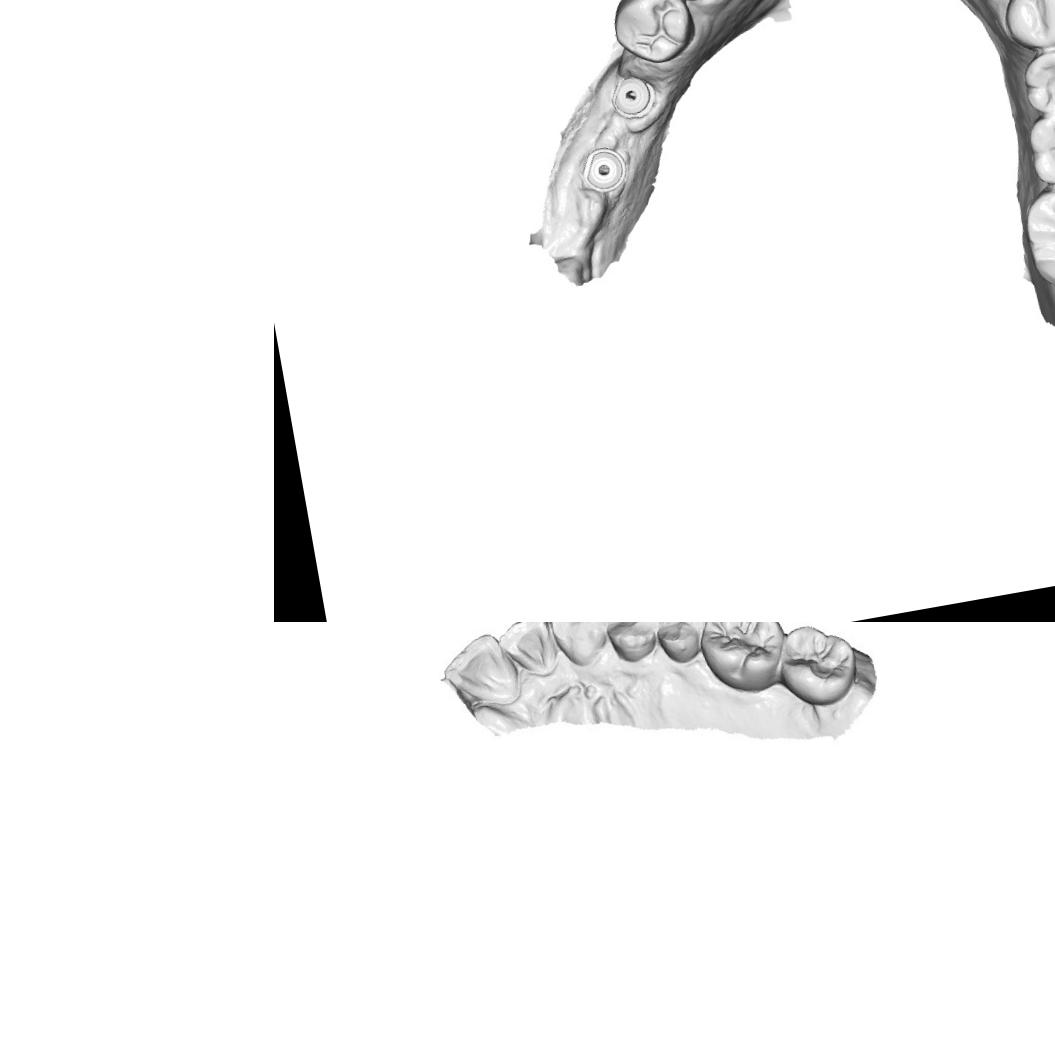canine: (546, 622, 615, 670)
implant: (578, 142, 634, 202), (604, 68, 655, 122)
incisor: (436, 627, 522, 718), (494, 622, 558, 686)
molar: (769, 622, 861, 711), (691, 622, 792, 699), (1016, 173, 1055, 298), (1023, 106, 1055, 191)
premolar: (608, 0, 699, 71), (995, 0, 1055, 56), (646, 622, 718, 666), (598, 622, 665, 664), (1018, 45, 1055, 119)
